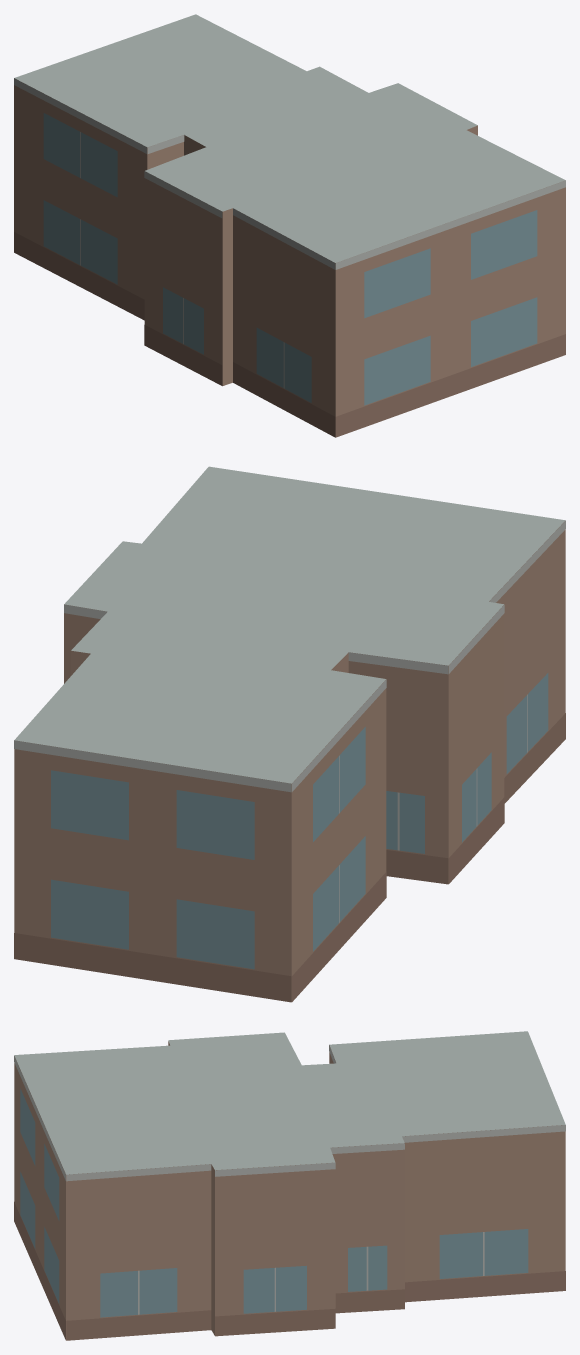
File: survey-upis-32887227.glb
3 renders of one model, top to bottom at view 1: azimuth 30°, elevation 25°; view 2: azimuth 150°, elevation 25°; view 3: azimuth 270°, elevation 25°, orthographic. The views are drawn at different scales.
Visible parts, largest first — view 1: survey-upis-32887227.tmp; view 2: survey-upis-32887227.tmp; view 3: survey-upis-32887227.tmp.
Boxes of the visible parts, x1=… form: survey-upis-32887227.tmp: x1=14, y1=14, x2=565, y2=437; survey-upis-32887227.tmp: x1=14, y1=466, x2=565, y2=1002; survey-upis-32887227.tmp: x1=14, y1=1031, x2=565, y2=1340.
Size of the model in its own units: 11.31 by 6.1 by 18.38.
